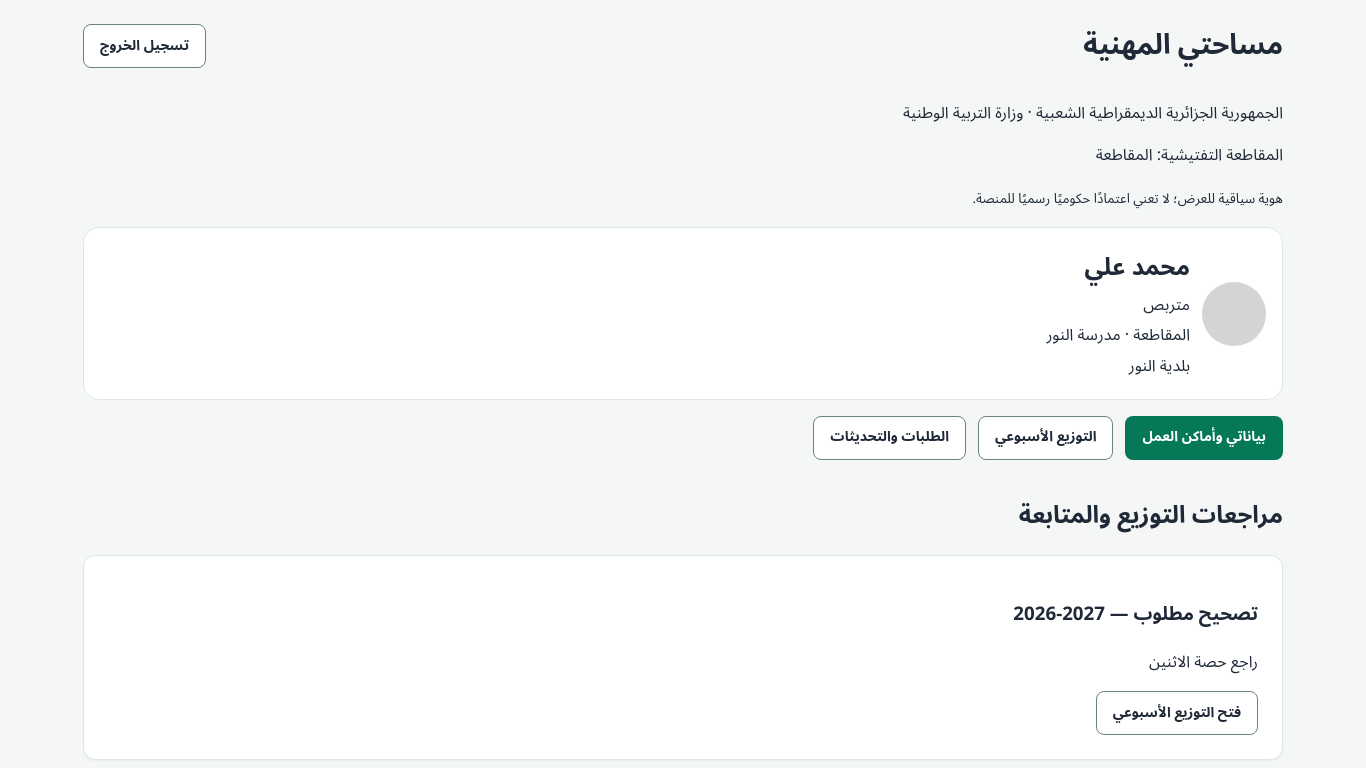
Scenario: teacher receives correction alert and can navigate to schedule
expect the text "راجع حصة الاثنين" is shown: met, box [1149,645,1258,679]
Click the button "فتح التوزيع الأسبوعي". click: x=1177, y=713
box: [1096,691,1258,735]
(page scrolled)
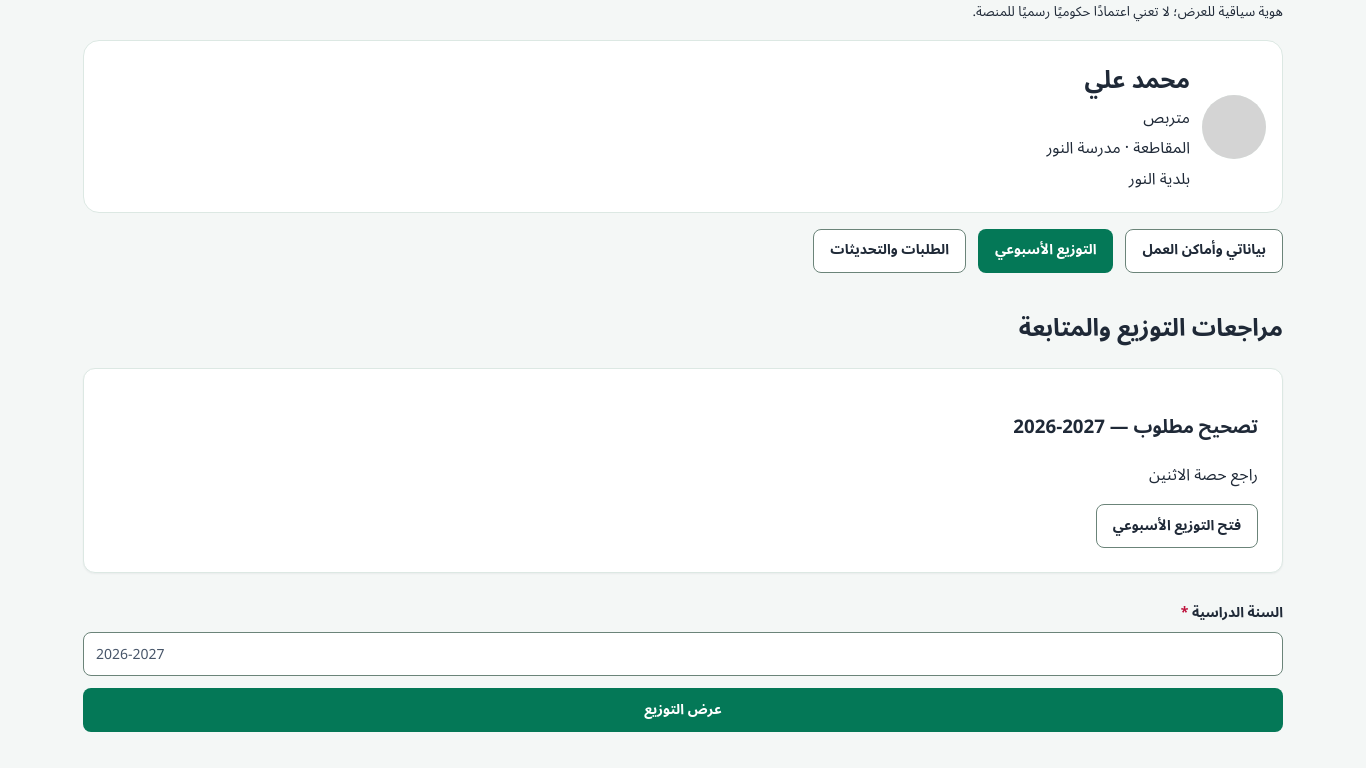
expect the field labelled "السنة الدراسية *" is shown: met, box [83,632,1283,676]
